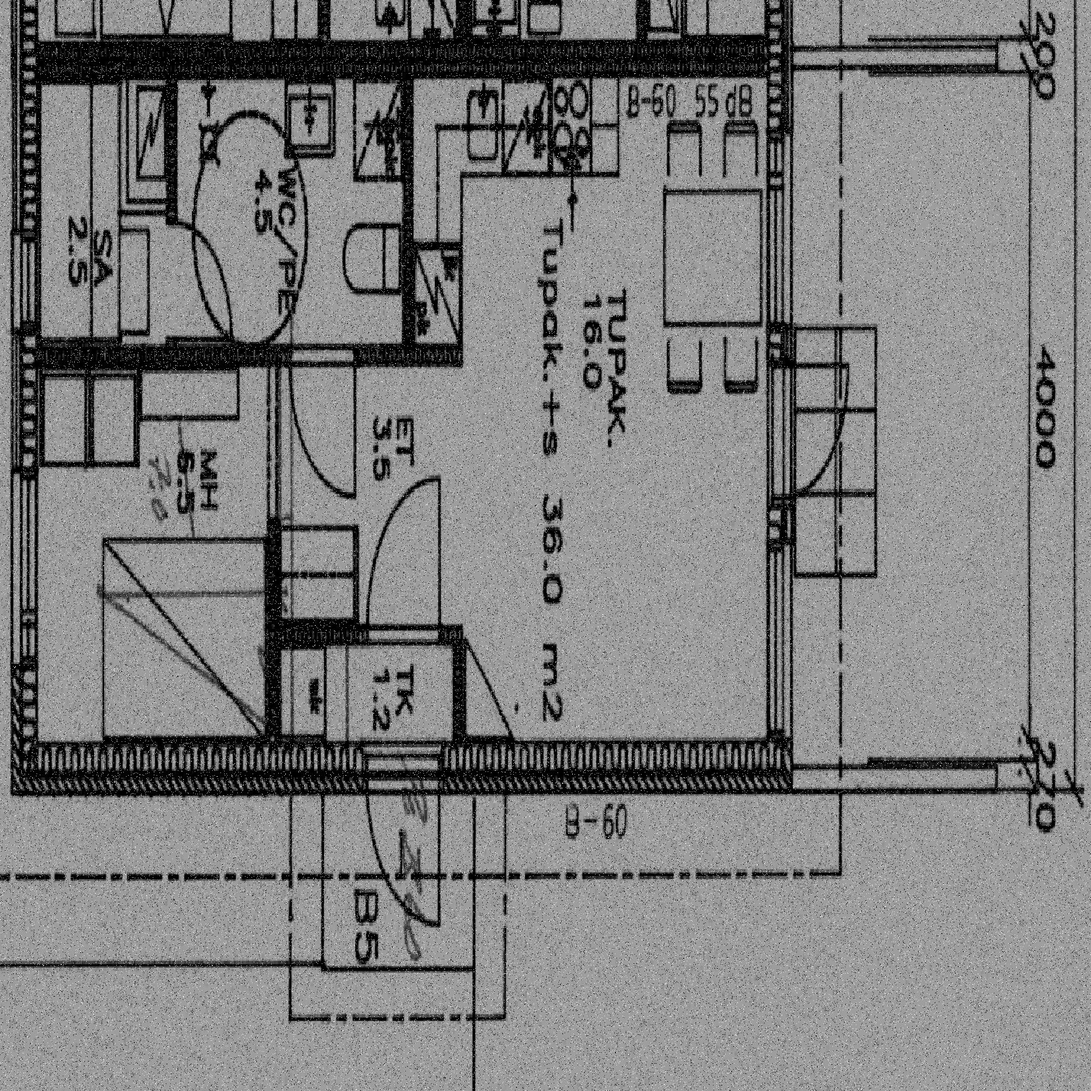wall: (11, 740, 791, 793), (11, 41, 791, 79), (11, 41, 37, 793), (768, 41, 791, 793), (11, 345, 463, 365), (269, 345, 280, 793), (269, 624, 465, 647), (165, 41, 177, 365), (404, 41, 413, 365), (453, 625, 465, 793)
